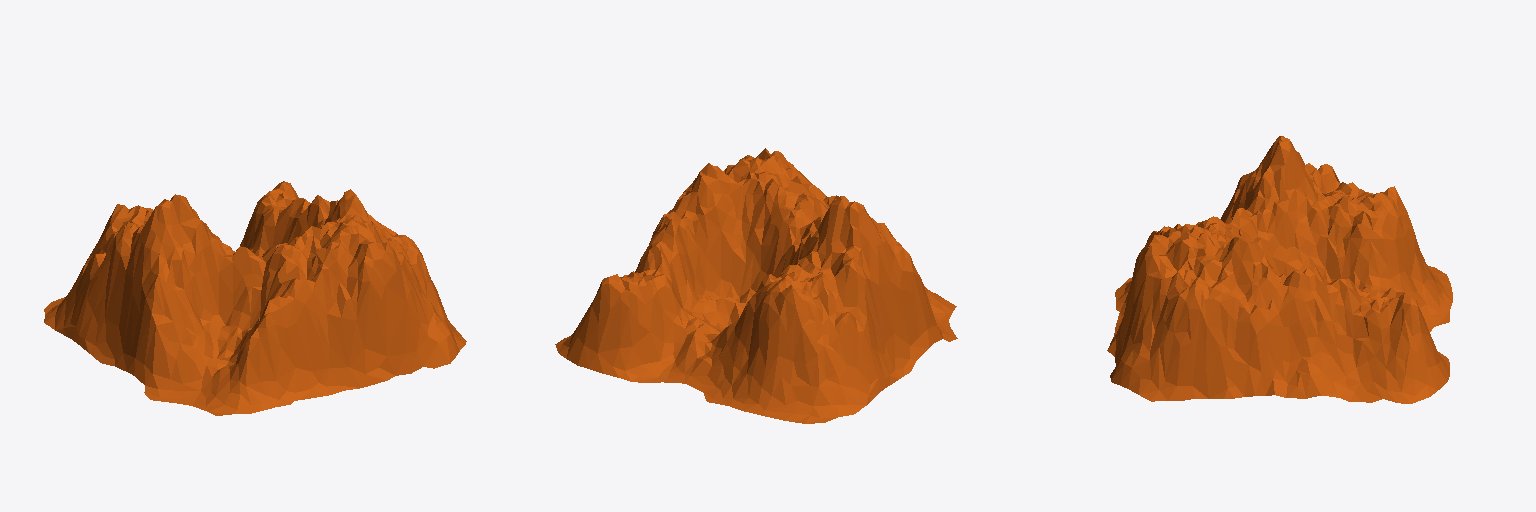
Rendered from mountain2.obj.
3 renders of one model, left to right at view 1: azimuth 30°, elevation 25°; view 2: azimuth 150°, elevation 25°; view 3: azimuth 270°, elevation 25°, orthographic.
Visible parts, largest first — view 1: Mounting_2_Plane.003; view 2: Mounting_2_Plane.003; view 3: Mounting_2_Plane.003.
Part boxes in pixels (left/top/right/bottom): Mounting_2_Plane.003: left=44, top=181, right=466, bottom=415; Mounting_2_Plane.003: left=555, top=148, right=957, bottom=423; Mounting_2_Plane.003: left=1107, top=136, right=1452, bottom=403.
Bounding box in the file's own units: 19.74 × 9.79 × 19.7.